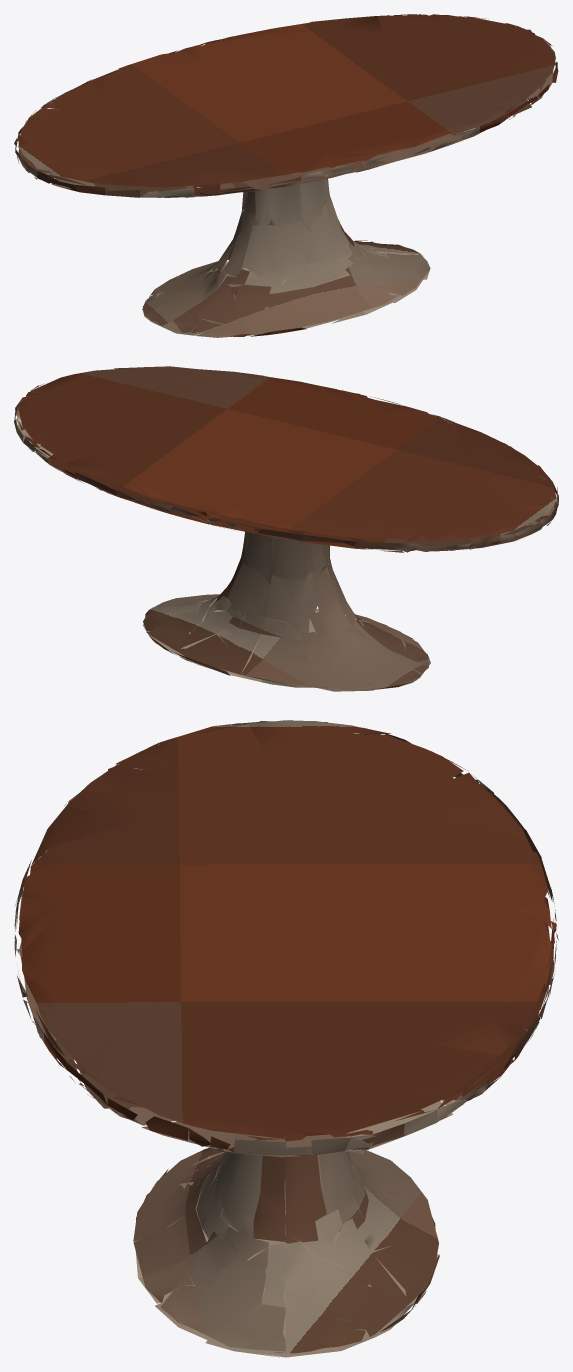
The model's file is jettable.glb.
The picture shows the model from 3 angles, top to bottom: view 1: azimuth 30°, elevation 25°; view 2: azimuth 150°, elevation 25°; view 3: azimuth 270°, elevation 25°; orthographic projection. The views are drawn at different scales.
Visible parts, largest first — view 1: LO.001; view 2: LO.001; view 3: LO.001.
Part boxes in pixels (x1,y1,x2,y2): LO.001: (14,14,558,337); LO.001: (14,366,558,691); LO.001: (14,720,558,1357).
Bounding box in the file's own units: 1.9 × 0.6779 × 1.04.
1 material, 1 textured.
